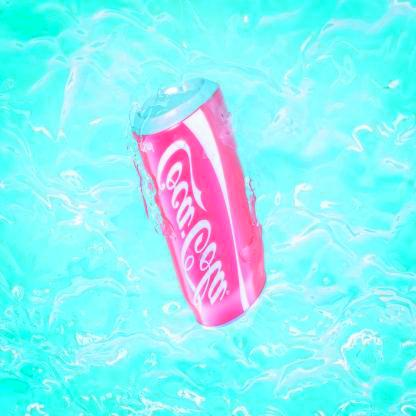Metal: (131, 80, 270, 330)
